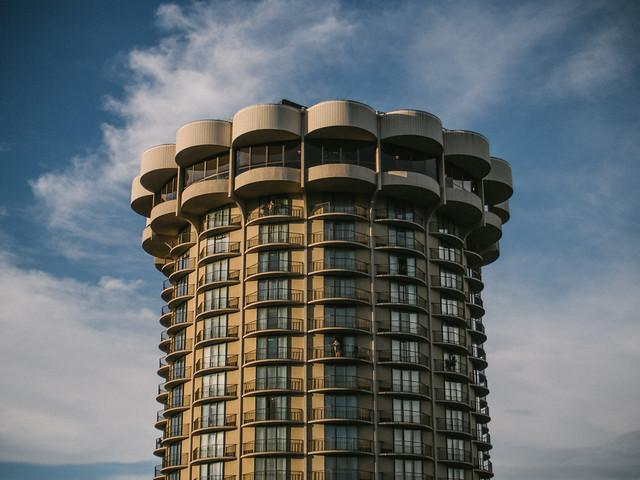building: (125, 95, 518, 480)
